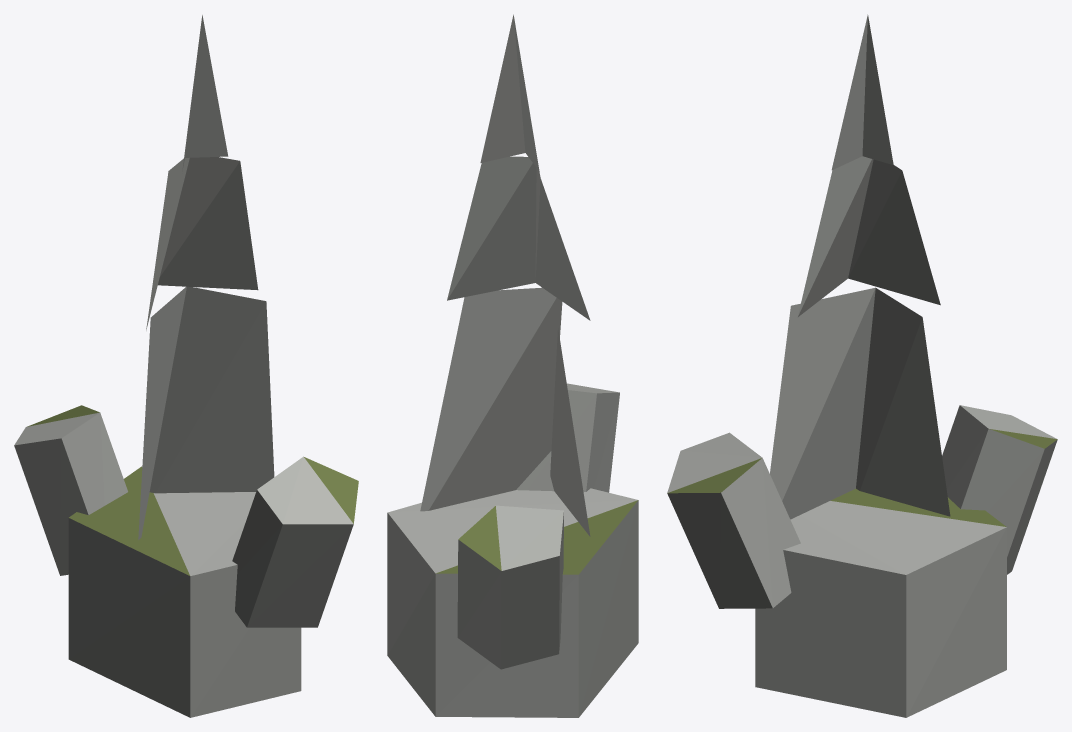
The model's file is rock.spire__outcrop__summer.glb.
3 renders of one model, left to right at view 1: azimuth 30°, elevation 25°; view 2: azimuth 150°, elevation 25°; view 3: azimuth 270°, elevation 25°, orthographic.
Parts seen in each view (by area): view 1: rock.spire; view 2: rock.spire; view 3: rock.spire.
Boxes of the visible parts, box(x1,y1,x2,y2) form: rock.spire: box(14, 15, 358, 717); rock.spire: box(387, 14, 638, 717); rock.spire: box(667, 14, 1057, 717).
Size of the model in its own units: 0.8356 by 2.32 by 1.26.
